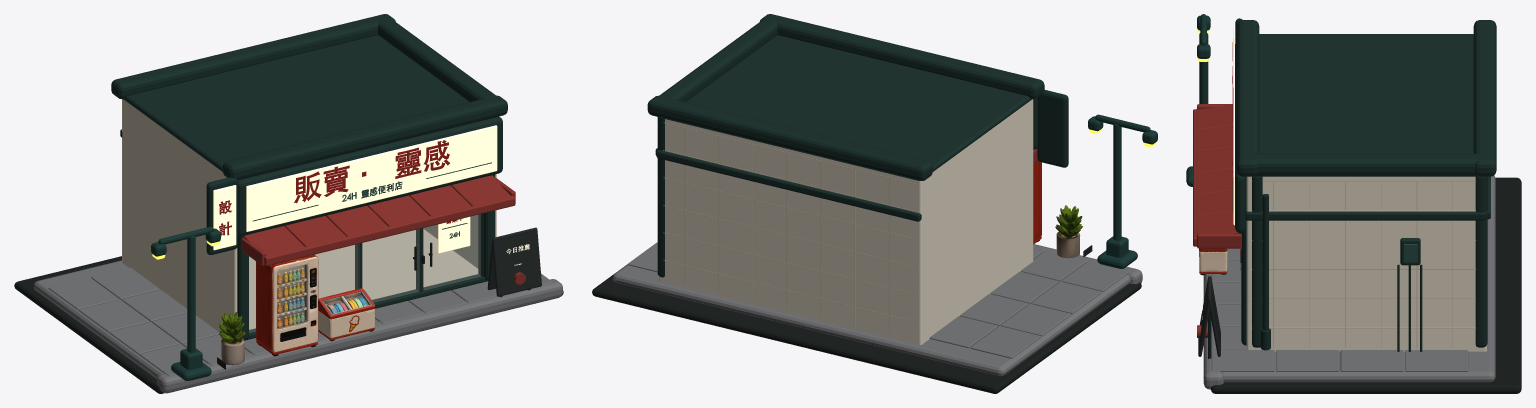
File: store-exterior.glb
3 views of the same model, side by side, from view 1: azimuth 30°, elevation 25°; view 2: azimuth 150°, elevation 25°; view 3: azimuth 270°, elevation 25° (orthographic). The views are drawn at different scales.
Parts seen in each view (by area): view 1: Roof cover, Left wall, Main sign inset, Interior floor, Front curb, Roof crown front, vending_source, Roof crown back, Left door, Main sign frame, Roof crown right, Right door (+36 smaller); view 2: Back wall, Roof cover, Left wall, Foundation shadow base, Sidewalk slab, Roof crown back, Roof crown front, Roof crown right, Back mid rail, Blade sign frame, Sidewalk tile -1-3, Sidewalk tile -1-1 (+11 smaller); view 3: Right wall, Roof cover, Foundation shadow base, Sidewalk slab, Roof crown right, Roof crown back, Roof crown front, Right mid rail, Right corner post 1.92, Right corner post -1.82, Sidewalk tile 7-0, Sidewalk tile 7-1 (+26 smaller).
Boxes of the visible parts, bbox=[...] form: Roof cover: bbox=[123, 35, 499, 180]; Left wall: bbox=[125, 100, 237, 332]; Main sign inset: bbox=[246, 125, 497, 231]; Interior floor: bbox=[249, 229, 478, 329]; Front curb: bbox=[157, 279, 562, 393]; Roof crown front: bbox=[222, 95, 507, 179]; vending_source: bbox=[256, 254, 318, 356]; Roof crown back: bbox=[111, 14, 395, 99]; Left door: bbox=[362, 229, 419, 302]; Main sign frame: bbox=[237, 117, 502, 236]; Roof crown right: bbox=[377, 16, 498, 101]; Right door: bbox=[423, 214, 480, 290]; Back wall: bbox=[658, 119, 924, 344]; Roof cover: bbox=[657, 35, 1031, 180]; Left wall: bbox=[922, 99, 1033, 343]; Foundation shadow base: bbox=[592, 265, 1141, 393]; Sidewalk slab: bbox=[613, 253, 1130, 376]; Roof crown back: bbox=[647, 95, 932, 180]; Roof crown front: bbox=[759, 14, 1044, 99]; Roof crown right: bbox=[659, 16, 778, 101]; Back mid rail: bbox=[656, 150, 921, 221]; Blade sign frame: bbox=[1037, 90, 1068, 167]; Sidewalk tile -1-3: bbox=[970, 326, 1041, 358]; Sidewalk tile -1-1: bbox=[1031, 281, 1101, 314]; Right wall: bbox=[1246, 176, 1479, 351]; Roof cover: bbox=[1255, 34, 1477, 176]; Foundation shadow base: bbox=[1211, 177, 1521, 393]; Sidewalk slab: bbox=[1222, 175, 1495, 382]; Roof crown right: bbox=[1244, 153, 1487, 175]; Roof crown back: bbox=[1473, 20, 1496, 176]; Roof crown front: bbox=[1236, 20, 1259, 176]; Right mid rail: bbox=[1245, 211, 1486, 220]; Right corner post 1.92: bbox=[1475, 176, 1487, 347]; Right corner post -1.82: bbox=[1252, 176, 1262, 347]; Sidewalk tile 7-0: bbox=[1211, 349, 1274, 371]; Sidewalk tile 7-1: bbox=[1276, 350, 1339, 371].
Size of the model in its own units: 8.54 by 3.89 by 5.61.
Materials: 20 (3 with a texture image).
